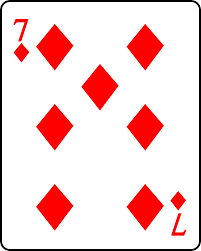seven of diamonds: (1, 2, 199, 250)
